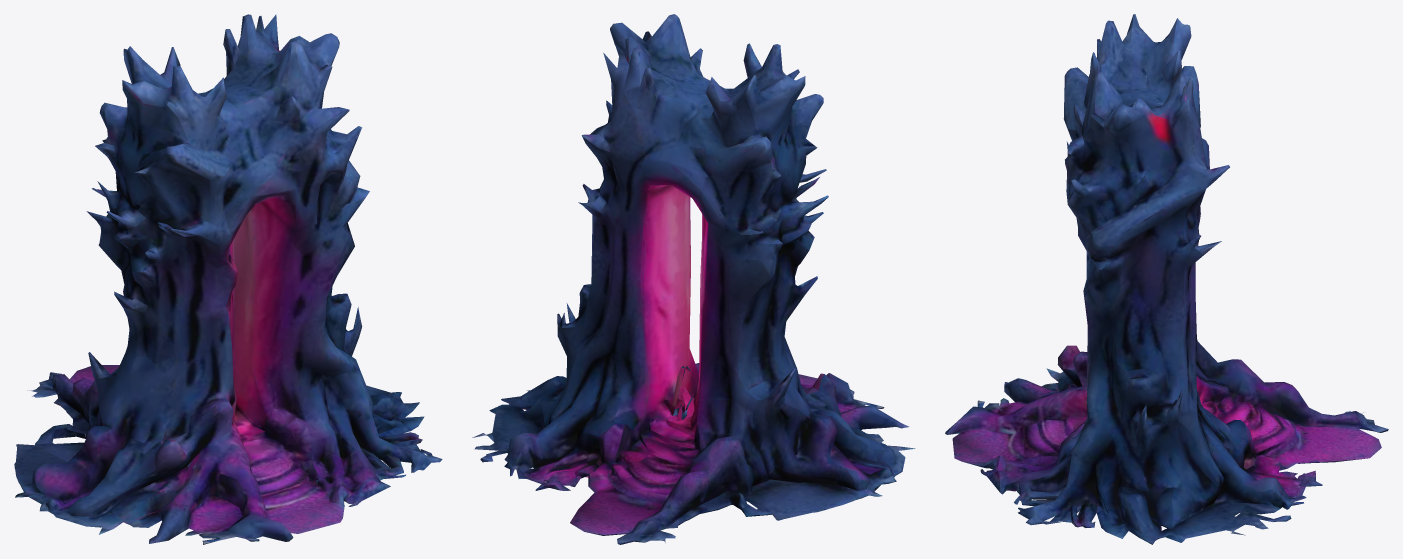
File: yggdrasil-root-northeast.collider.glb
3 views of the same model, side by side, from view 1: azimuth 30°, elevation 25°; view 2: azimuth 150°, elevation 25°; view 3: azimuth 270°, elevation 25° (orthographic). The views are drawn at different scales.
Parts seen in each view (by area): view 1: temp_mesh.ply; view 2: temp_mesh.ply; view 3: temp_mesh.ply.
Part boxes in pixels (x1=…): temp_mesh.ply: x1=14, y1=14, x2=442, y2=544; temp_mesh.ply: x1=472, y1=14, x2=915, y2=544; temp_mesh.ply: x1=945, y1=14, x2=1388, y2=544.
Size of the model in its own units: 1.97 by 1.97 by 1.97.
Materials: 1 (1 with a texture image).
